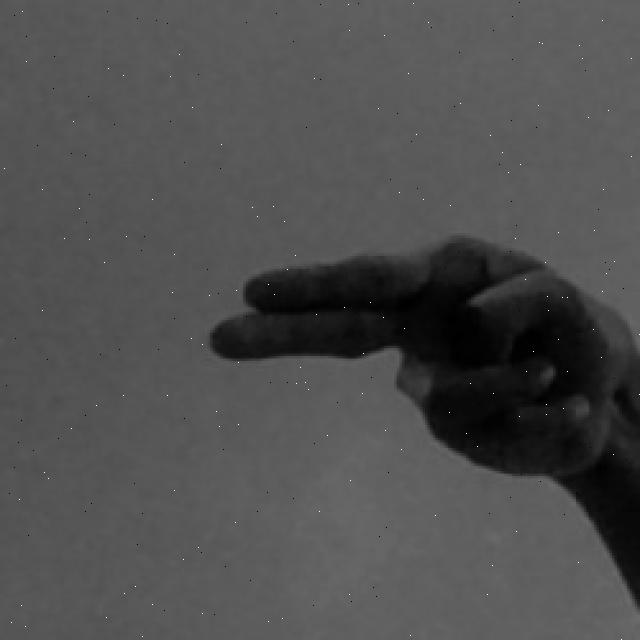H: (204, 229, 640, 620)
